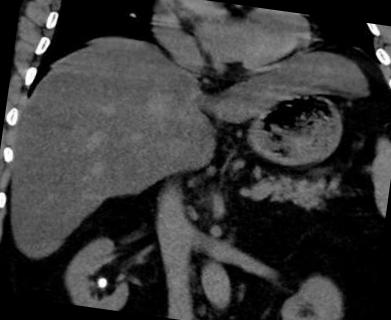Tas_Var: (94, 273, 110, 289)
